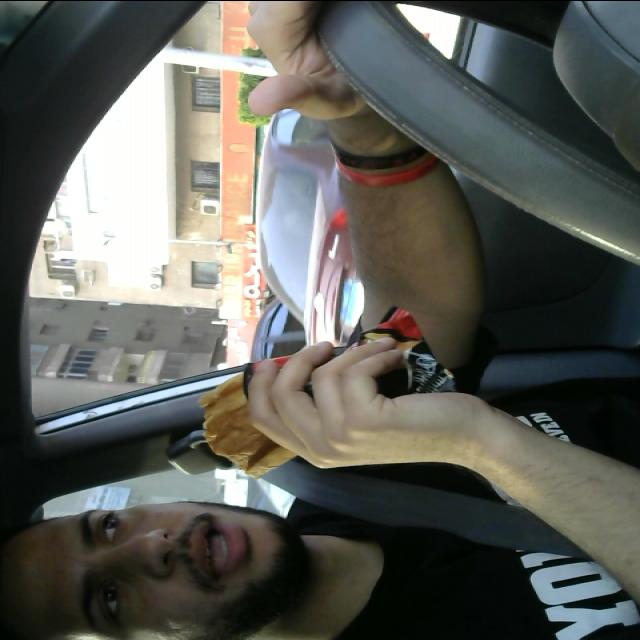eating: (192, 302, 450, 483)
